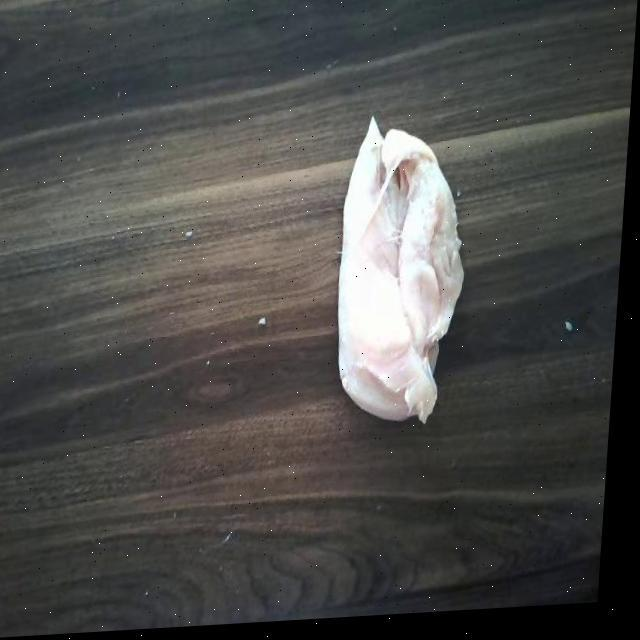breast: (326, 126, 487, 453)
